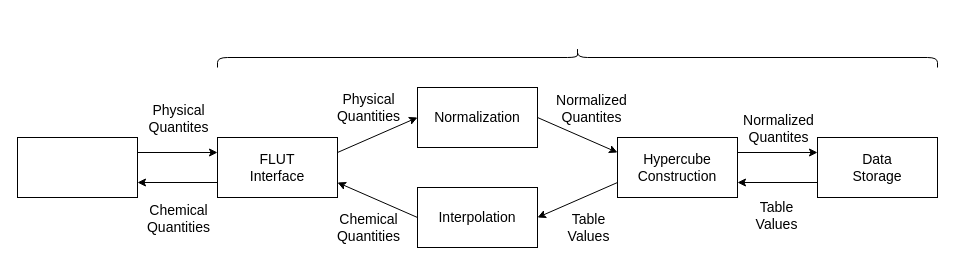
Some shapes in this 955 by 265 pixel diagram are drawn without their labels. Each missing label, with the centre of its shape:
"Developed Library" goes at point 577,57.
"External Software" goes at point 77,167.
